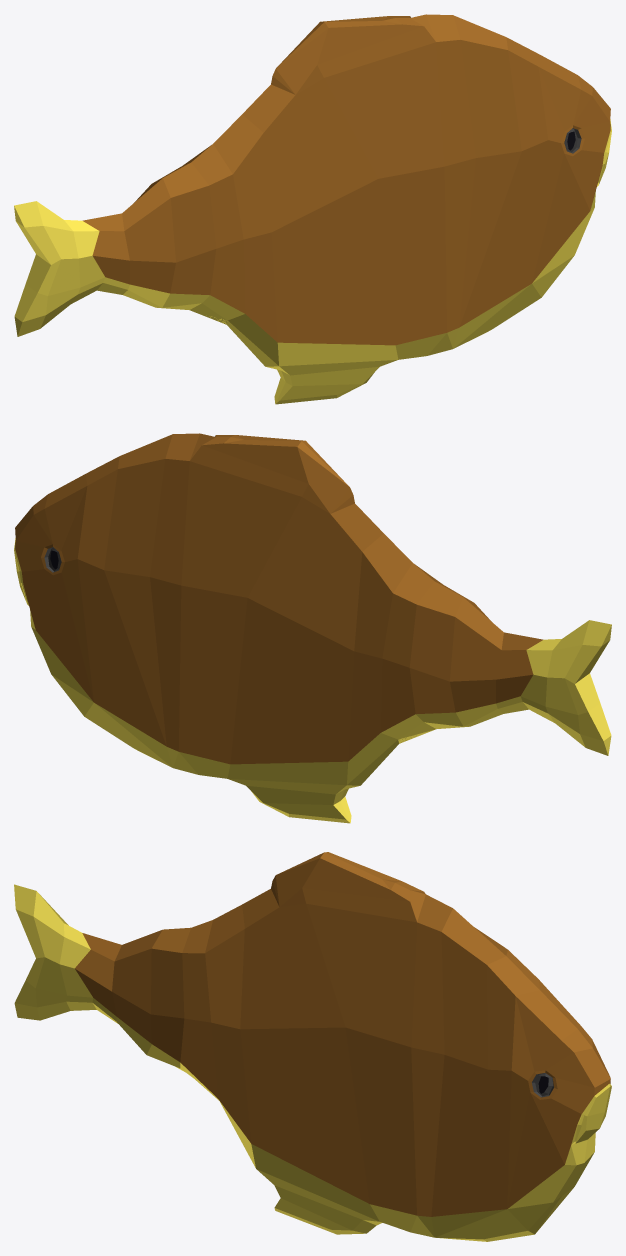
File: FishV4.fbx
The picture shows the model from 3 angles, top to bottom: view 1: azimuth 30°, elevation 25°; view 2: azimuth 150°, elevation 25°; view 3: azimuth 330°, elevation 25°; orthographic projection.
Parts seen in each view (by area): view 1: FishV4; view 2: FishV4; view 3: FishV4.
Boxes of the visible parts, box(x1,y1,x2,y2) form: FishV4: box(14, 14, 611, 404); FishV4: box(14, 433, 611, 823); FishV4: box(14, 852, 611, 1241).
Bounding box in the file's own units: 199 × 121 × 21.18.
